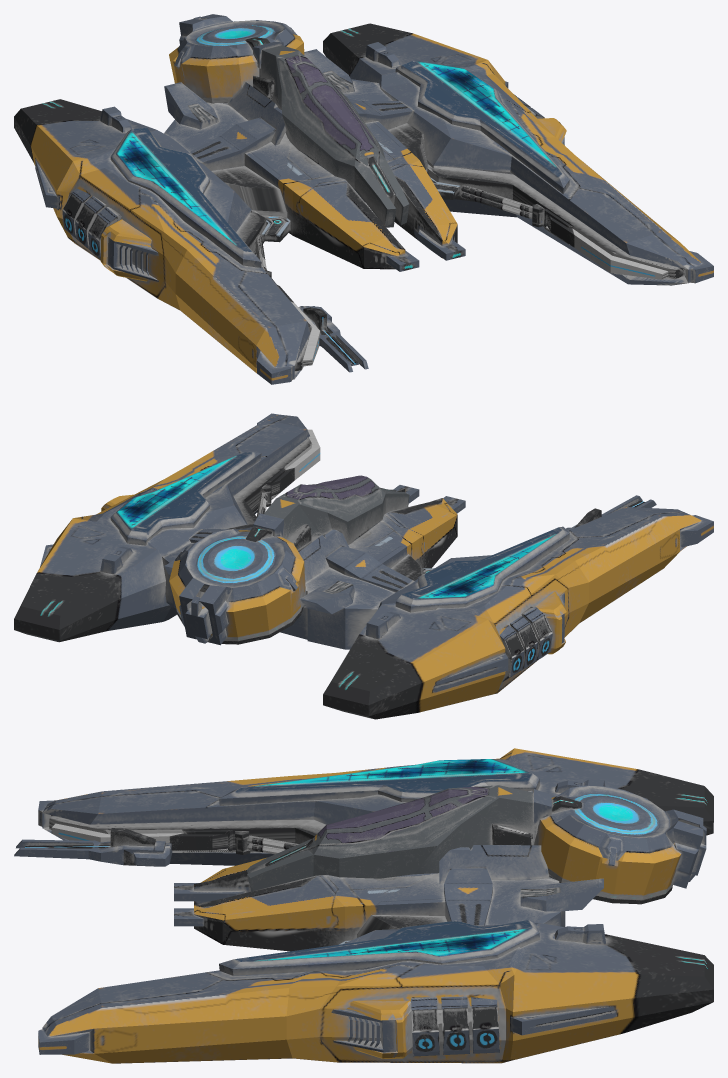
The model's file is Enemy.fbx.
3 renders of one model, top to bottom at view 1: azimuth 30°, elevation 25°; view 2: azimuth 150°, elevation 25°; view 3: azimuth 270°, elevation 25°, orthographic. The views are drawn at different scales.
Visible parts, largest first — view 1: polySurface58; view 2: polySurface58; view 3: polySurface58.
Boxes of the visible parts, <box> form: polySurface58: <box>14,14,713,384</box>; polySurface58: <box>14,413,713,719</box>; polySurface58: <box>14,748,713,1063</box>.
Bounding box in the file's own units: 18.71 × 5.57 × 21.93.
Materials: 1 (1 with a texture image).
